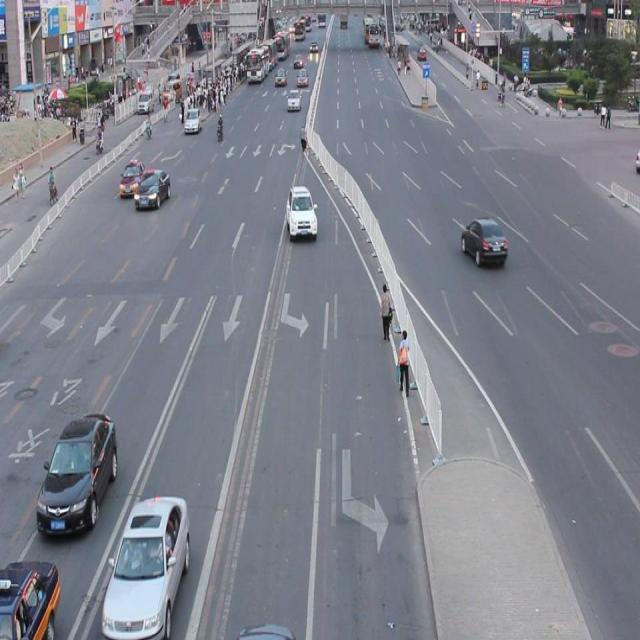car: (102, 489, 190, 640), (35, 410, 118, 537), (0, 556, 60, 640), (460, 216, 508, 268), (285, 185, 317, 238), (133, 168, 171, 210), (119, 158, 146, 199)
